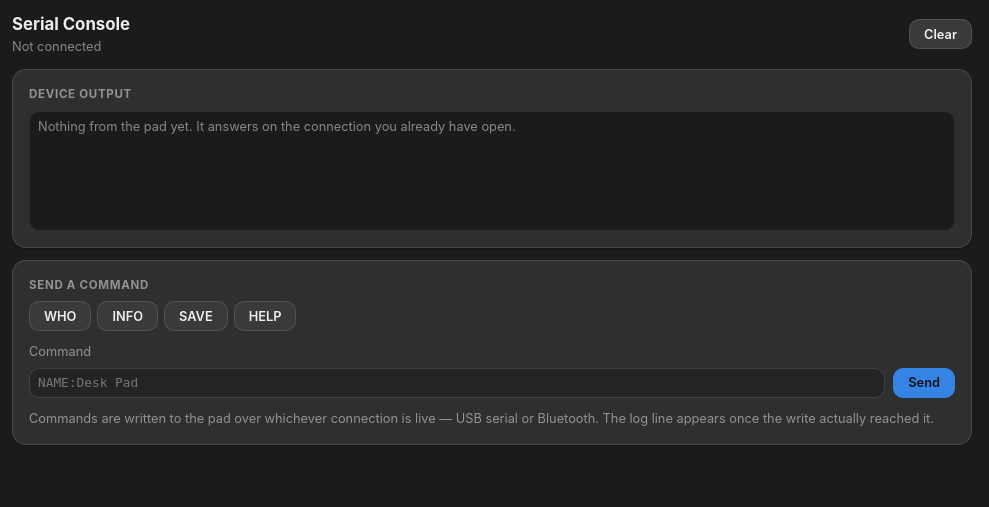
Scenario: command input › shows an error and keeps the text when the write fails
The image size is (989, 507).
Type "WHO" into the field with test id "console-input" at (457, 383), box x1=29 y1=368 x2=885 y2=398
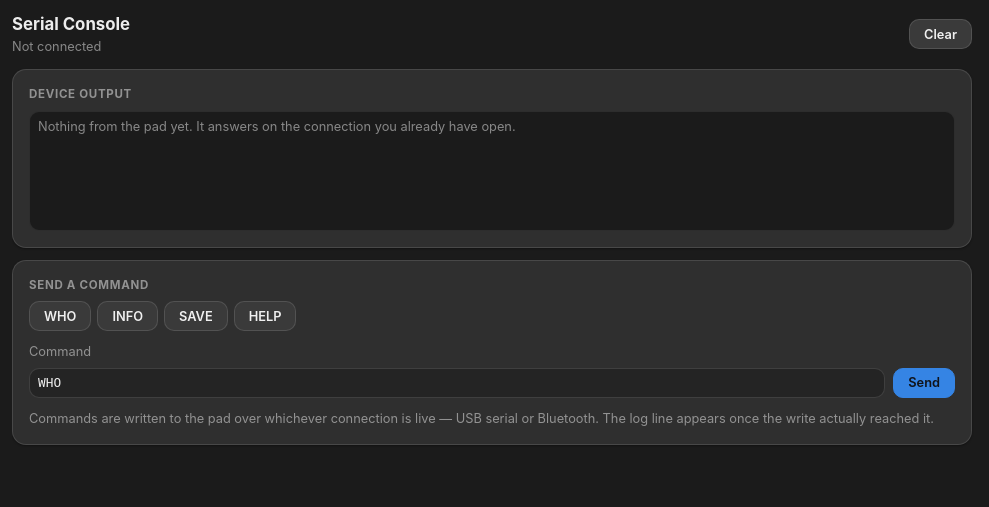
Press Enter in the field with test id "console-input", box x1=29 y1=368 x2=885 y2=398
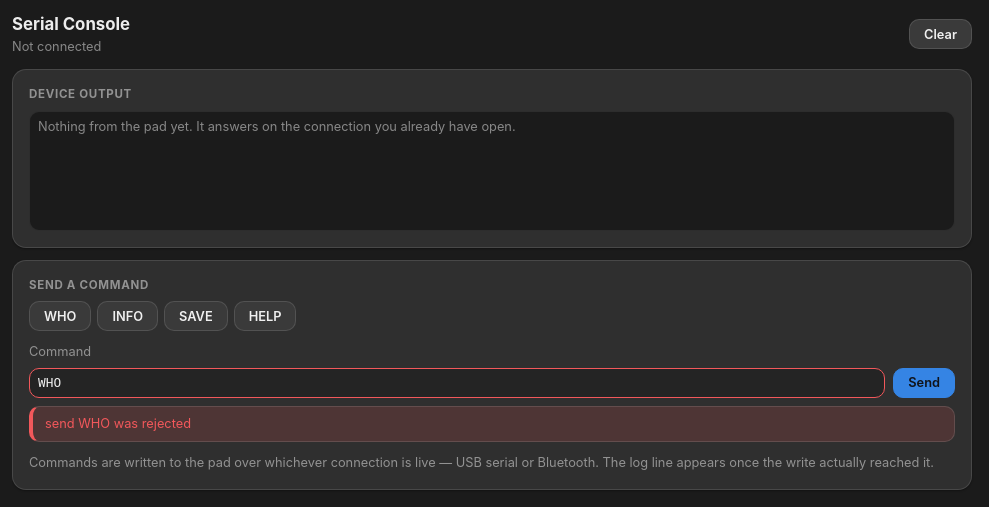
Expected: the element with test id "console-error" does not show ""
Result: the message with test id "console-error" shows "WHO" at x1=45 y1=416 x2=191 y2=431
